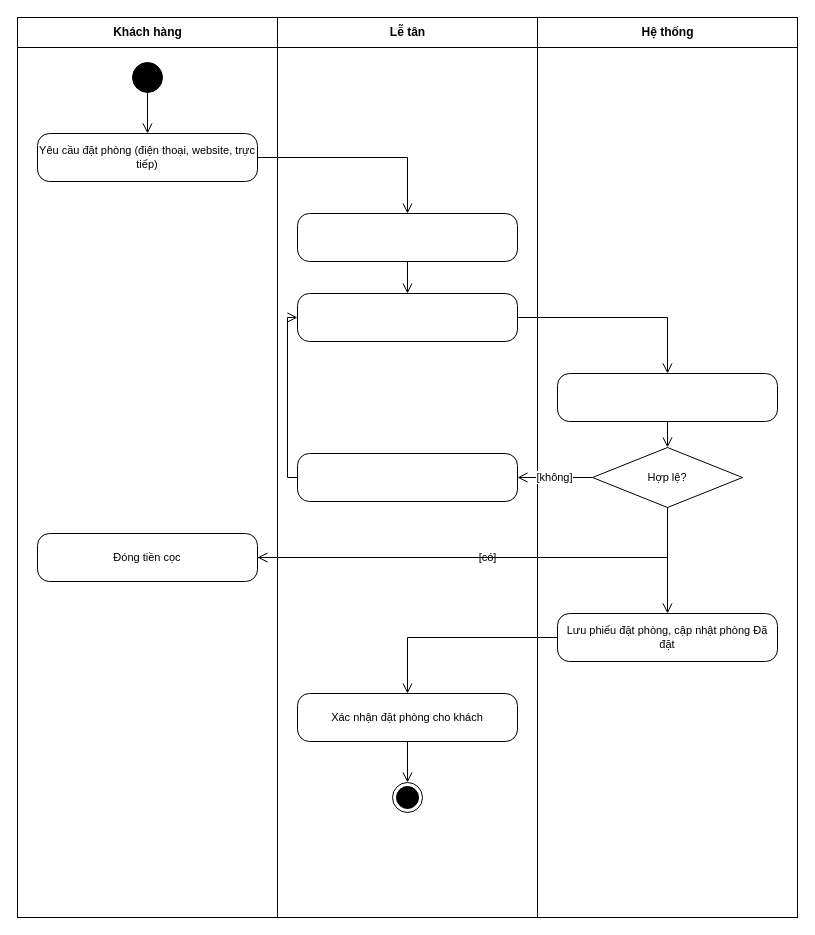
Image size: 815x935. Some labels were removed from this diagram. Each missing label, with the centre of its shape:
"Báo phòng không phù hợp, chọn phòng khác" goes at point (407, 477).
"Chọn phòng, ngày nhận, ngày trả, số người" goes at point (407, 317).
"Ghi thông tin khách: họ tên, CCCD, quốc tịch" goes at point (407, 237).
"Kiểm tra sức chứa và trùng lịch" goes at point (667, 397).
